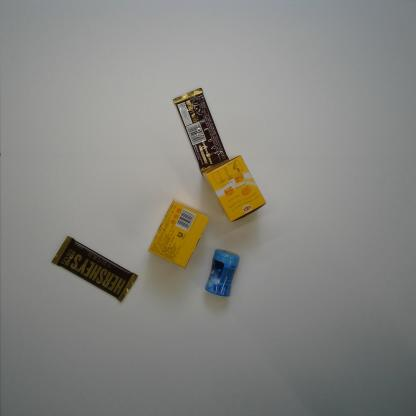Chocolate: (50, 236, 138, 302), (173, 87, 229, 176)
Gum: (204, 248, 240, 298)
Instant Drink: (205, 154, 267, 223), (147, 201, 209, 269)
